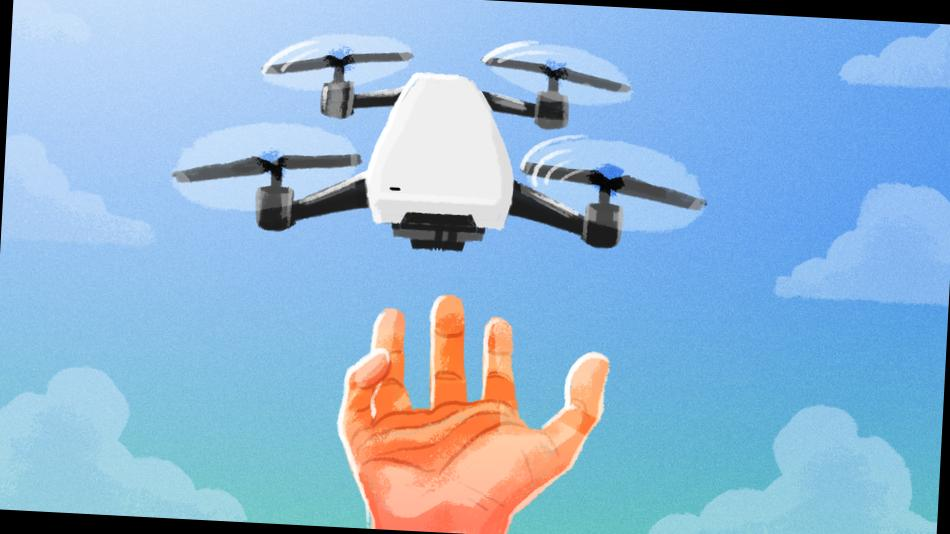drone: (147, 19, 709, 286)
